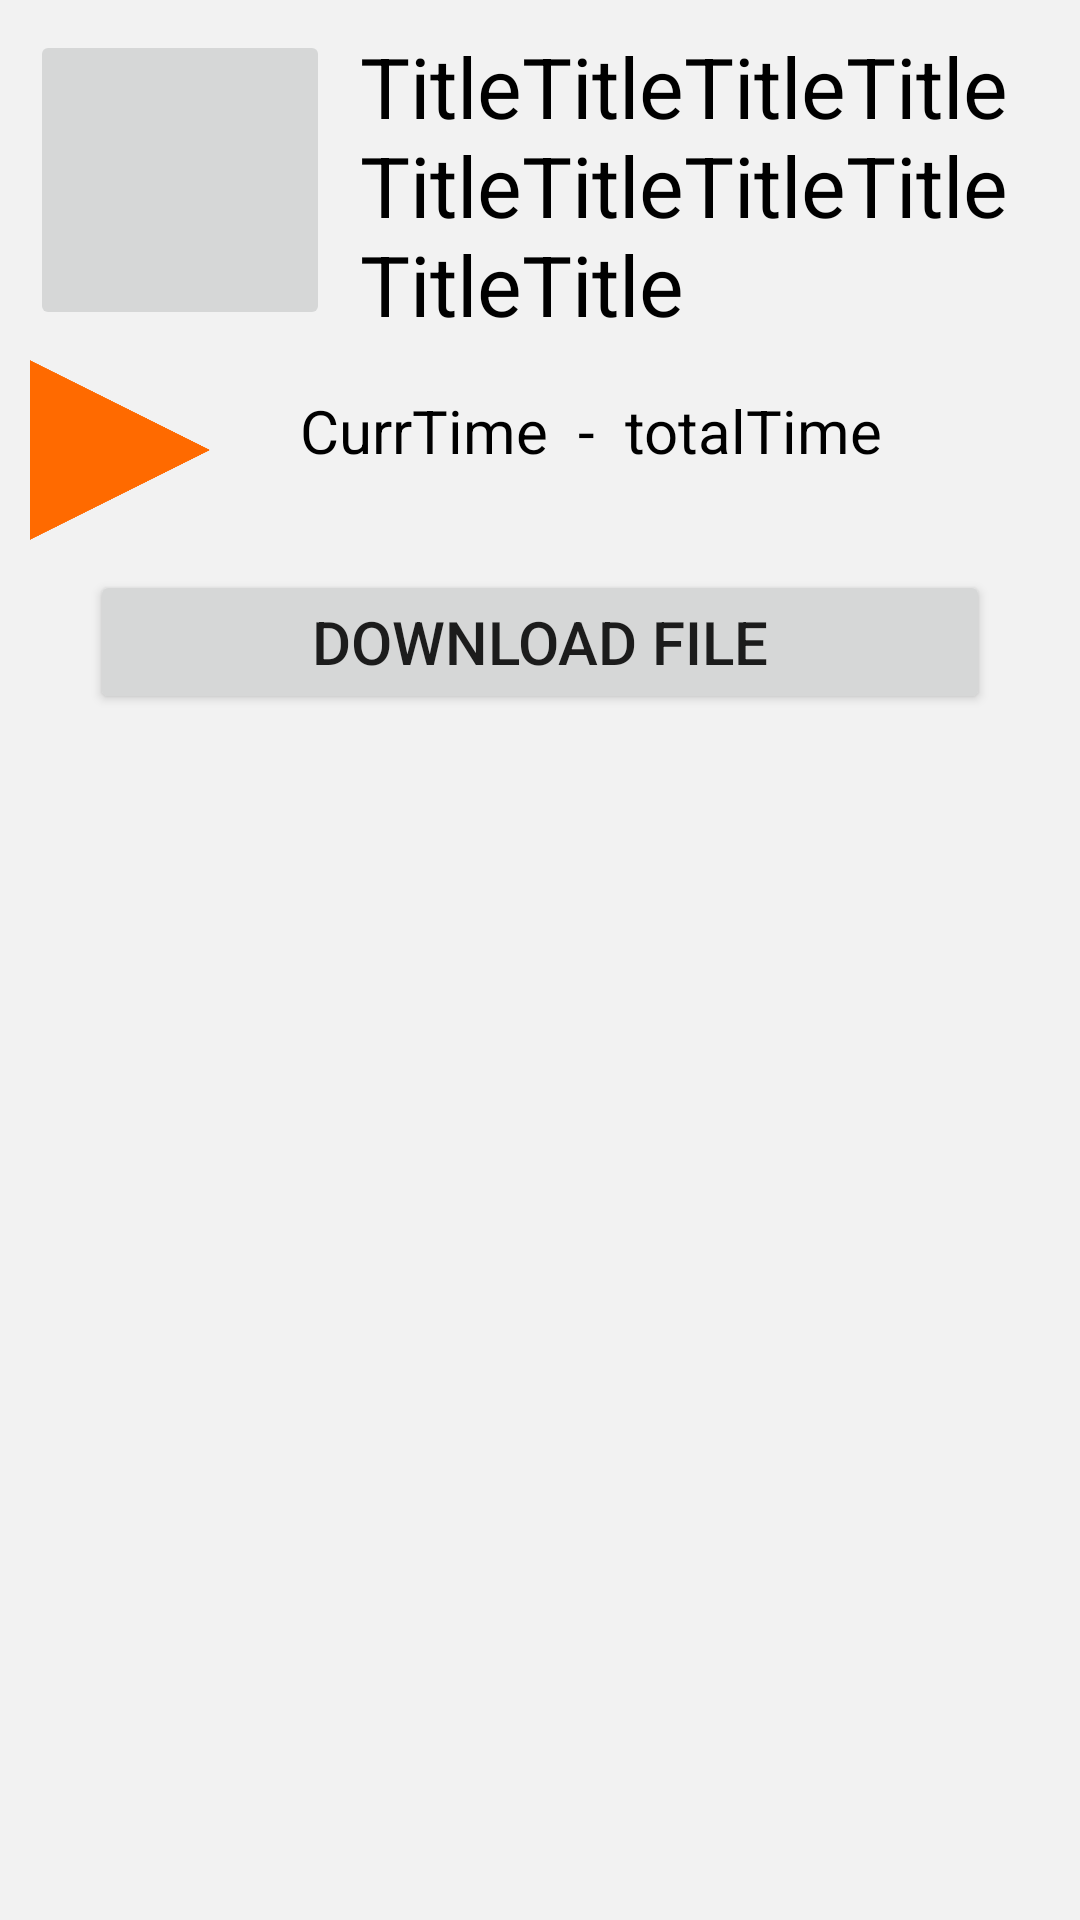

Point at icon controls on the screen. Image size 1080*1920, points as (x=x, y=y).
play: (x=119, y=450)
